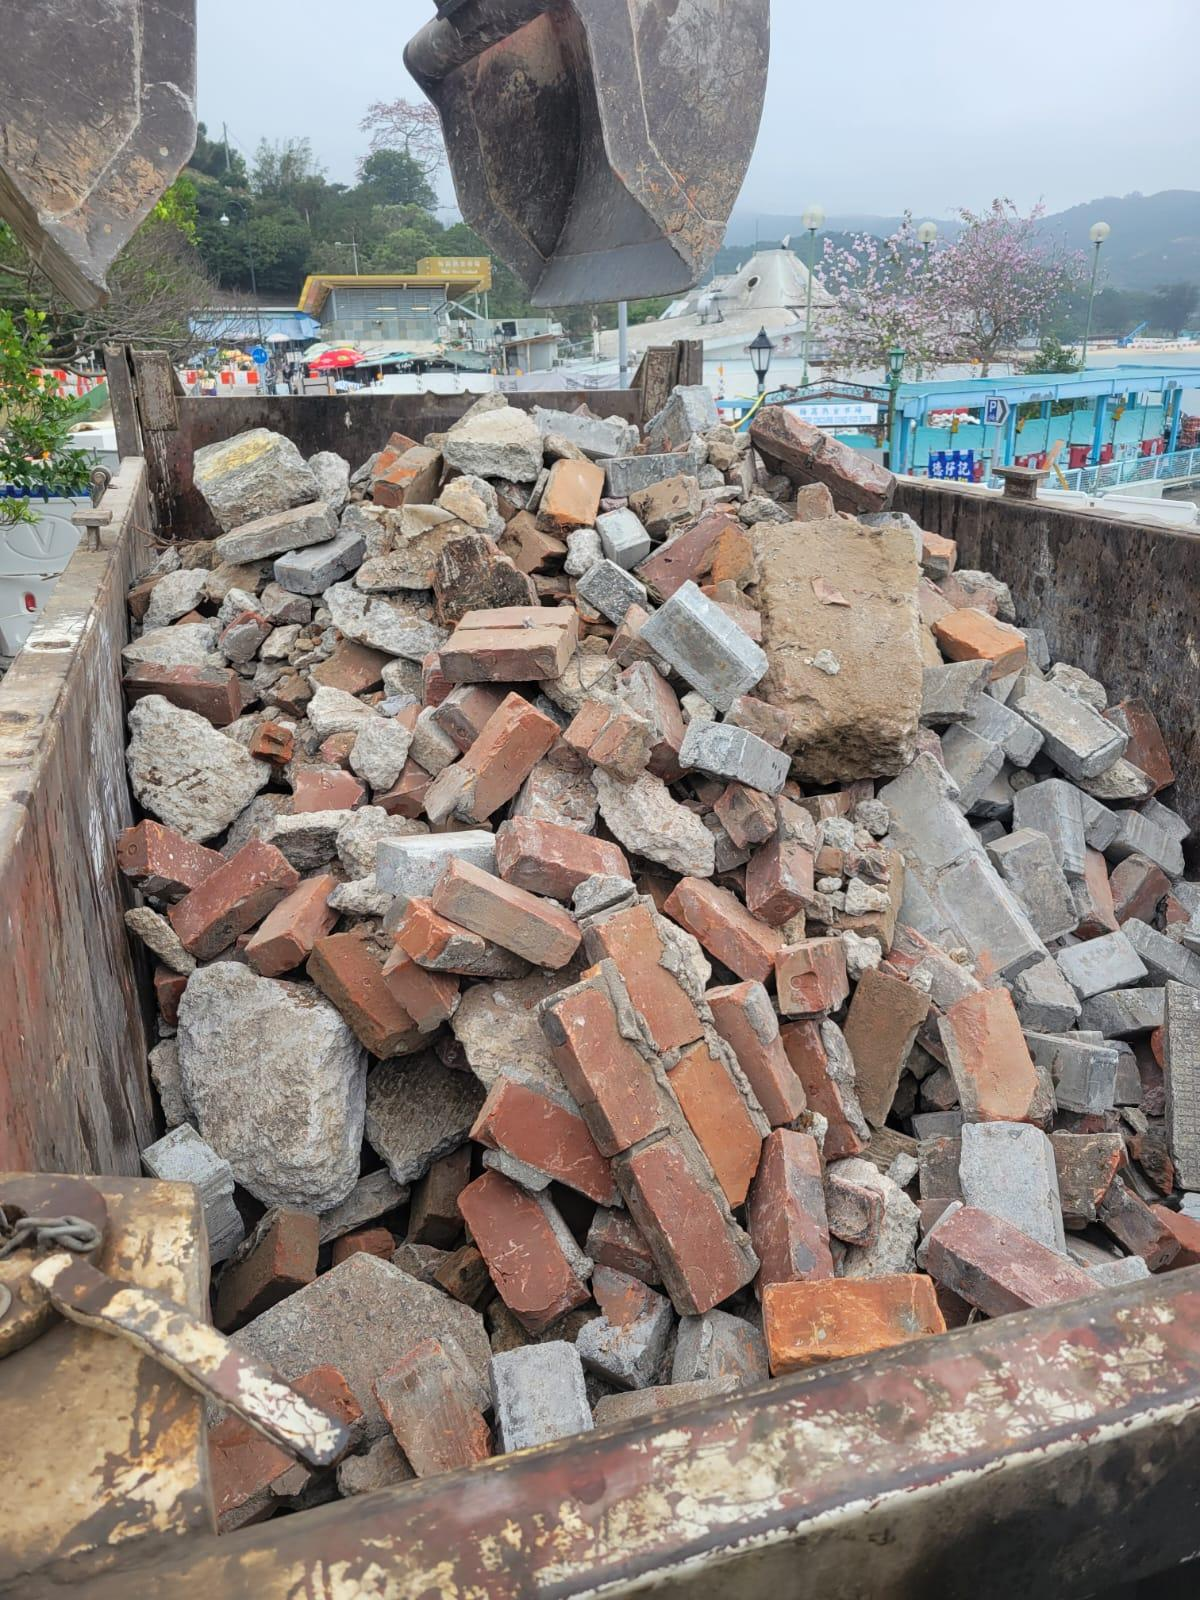dry: (155, 404, 1180, 1402)
